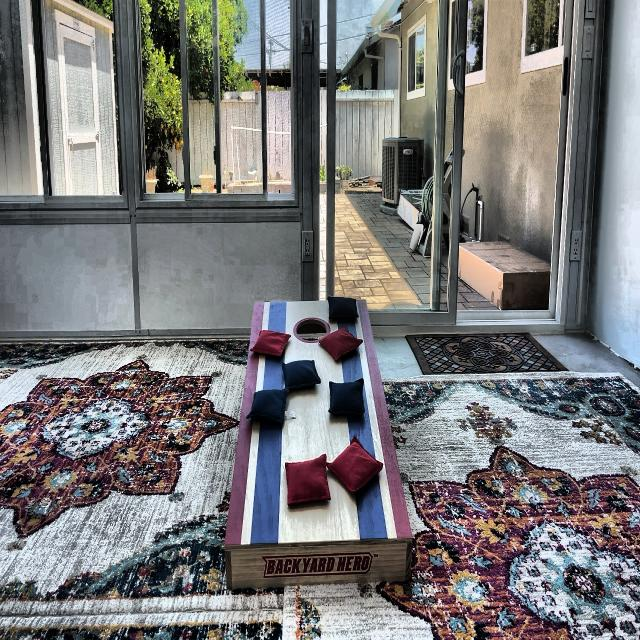blue-bean-bag: (247, 388, 288, 424), (328, 378, 364, 416), (282, 359, 321, 387), (328, 296, 358, 320)
board: (249, 302, 374, 545)
hole: (294, 316, 330, 342)
red-bean-bag: (327, 436, 383, 494), (285, 453, 330, 504), (319, 327, 363, 361), (250, 330, 290, 356)
